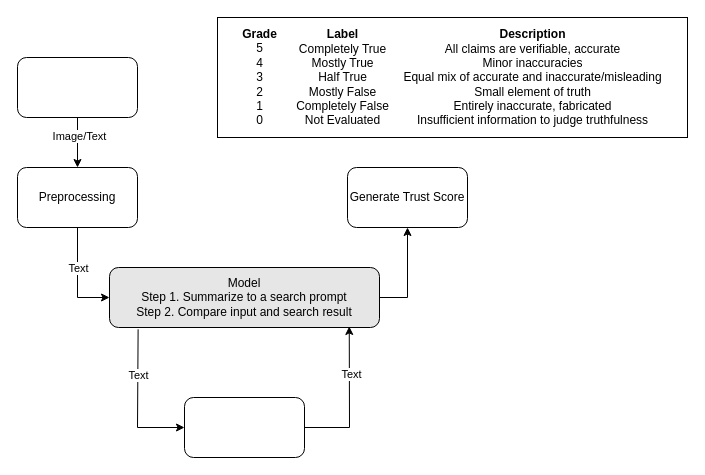
The diagram is 705 pixels wide and 475 high, and some of its shapes have lost their labels. The shapes that lost their labels are listed below. From the top down, each one's centre as x and y in pixels, then its label:
At point 77,87: "User Input".
At point 244,427: "Search Engine (Wikipedia, Gnews,...)".
